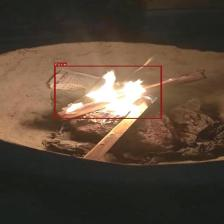fire: (54, 66, 162, 118)
